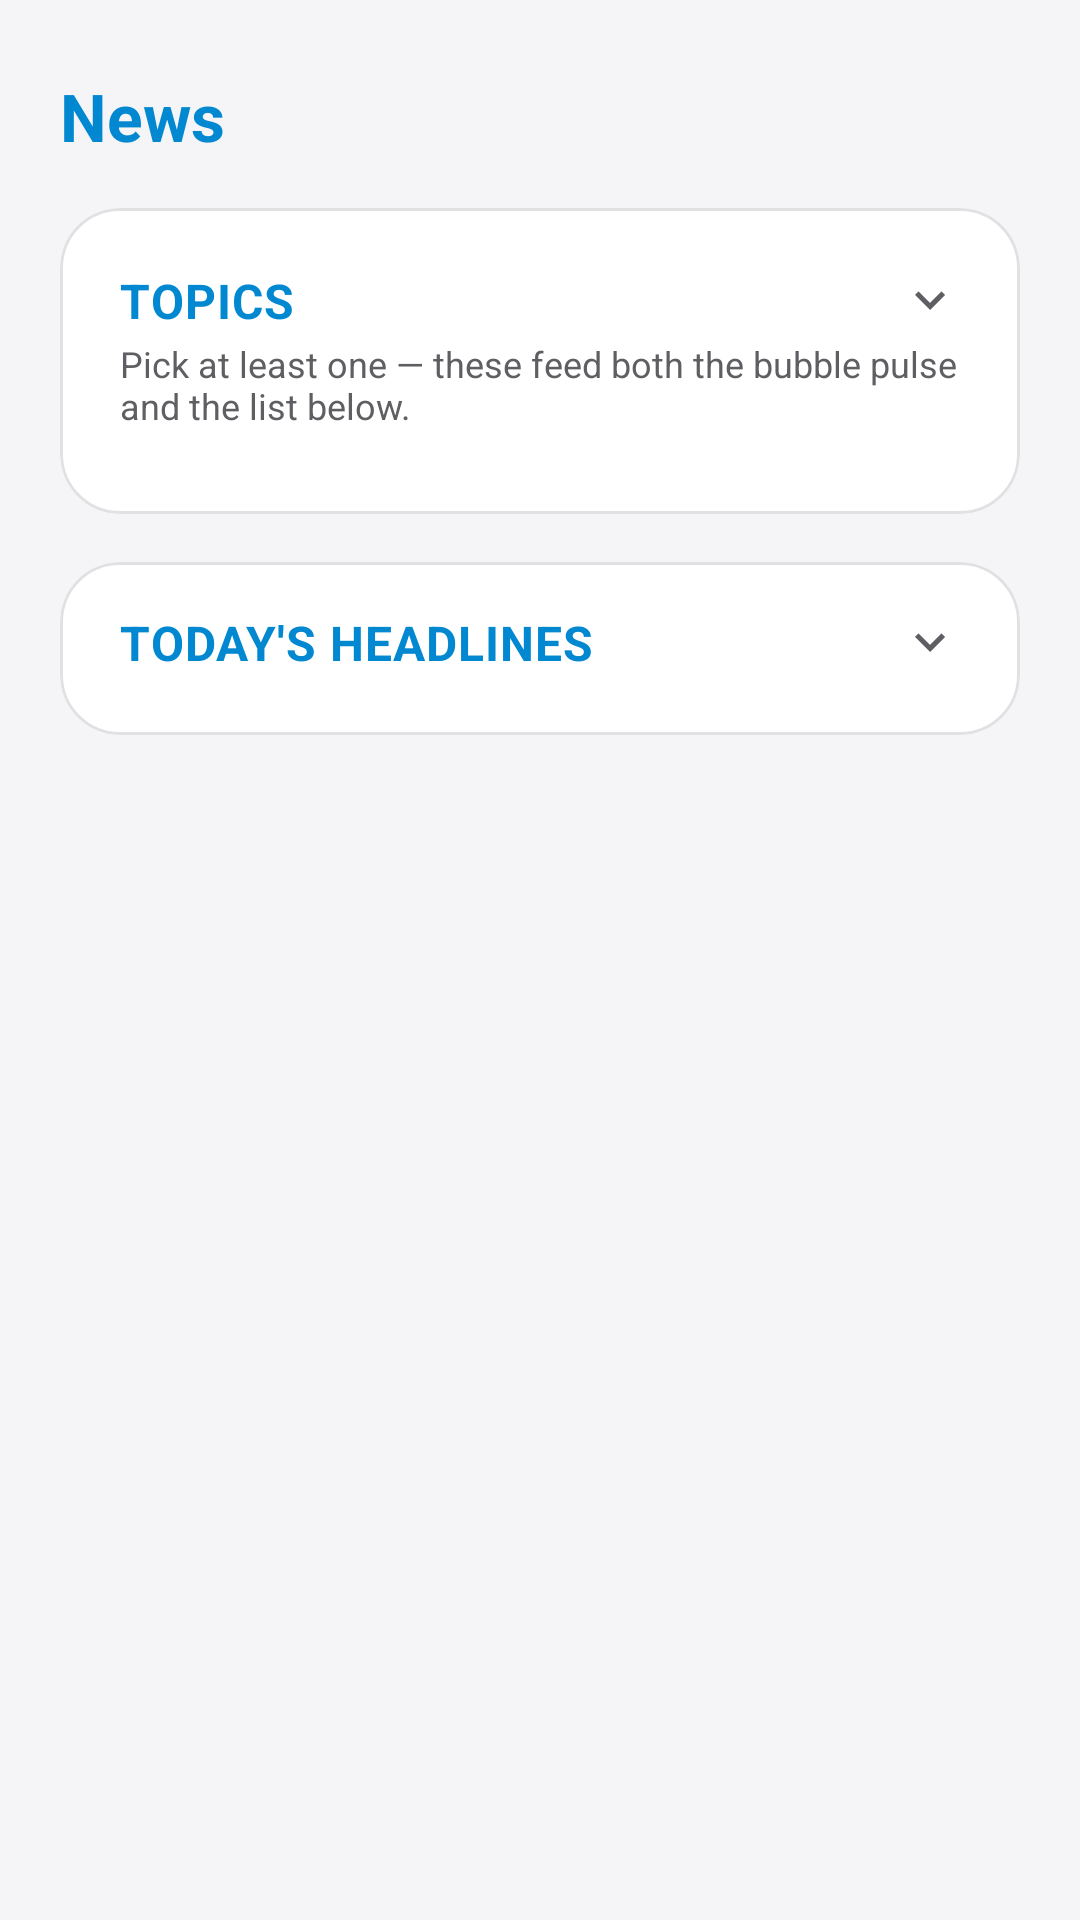

Where to tap for icons on this 1080×1920 app screen, as [x,y]:
chevron down: [930,300], [930,642]
